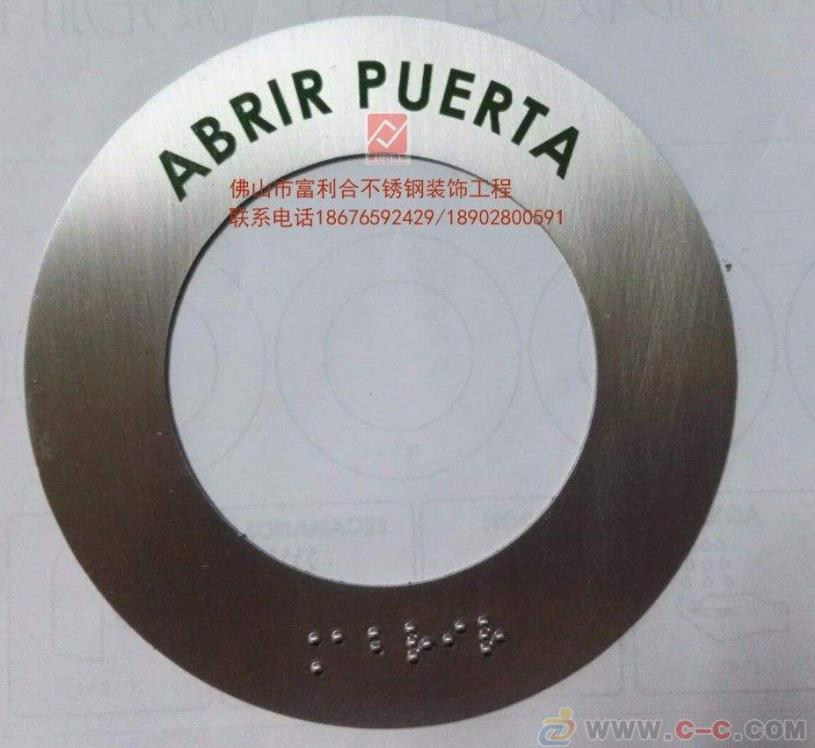Braille: (293, 628, 323, 677), (404, 621, 435, 668), (369, 624, 396, 671), (477, 613, 505, 657), (333, 627, 361, 671), (441, 614, 467, 660)
